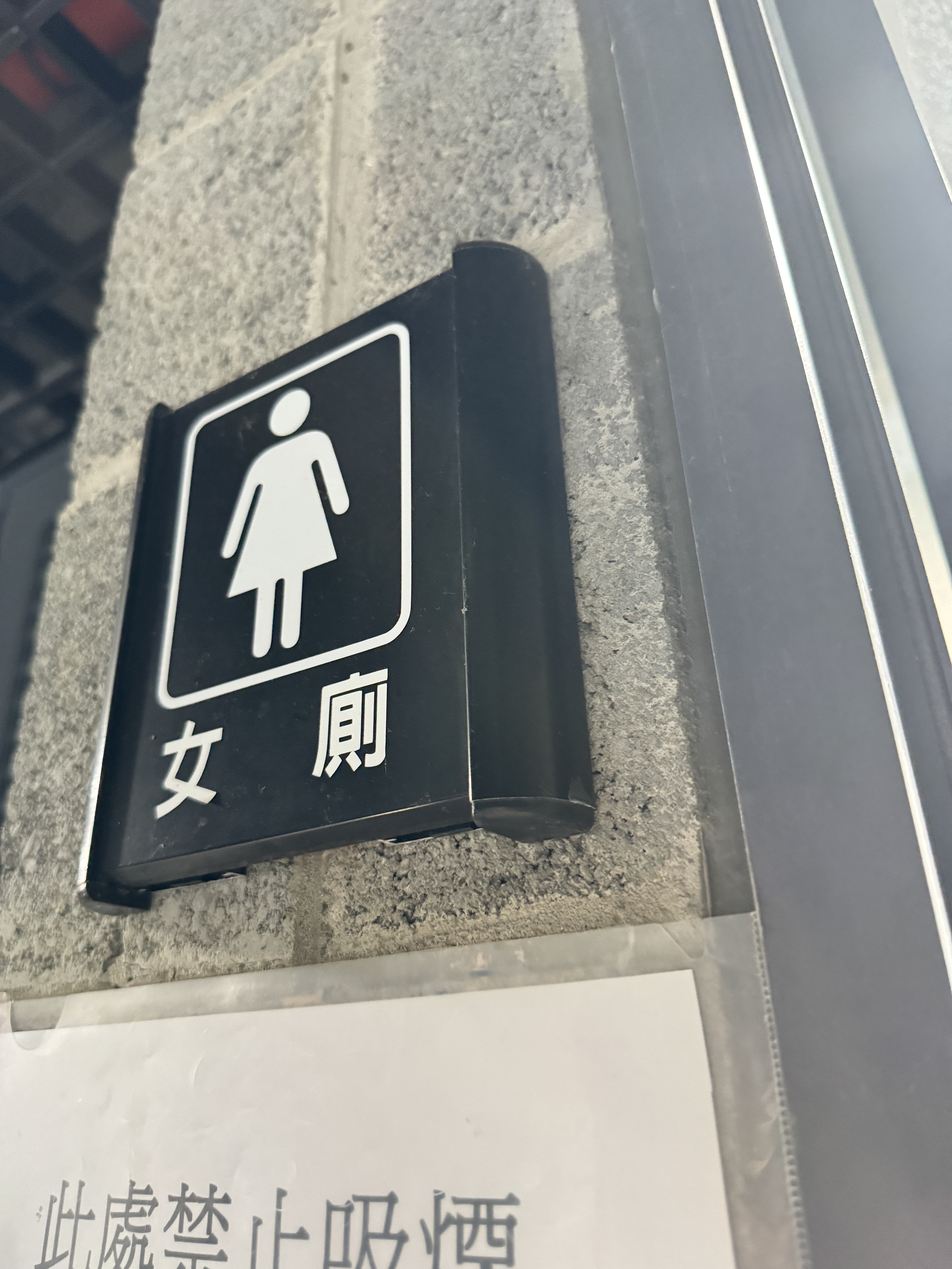toilet_sign: (75, 212, 600, 923), (56, 263, 616, 882)
